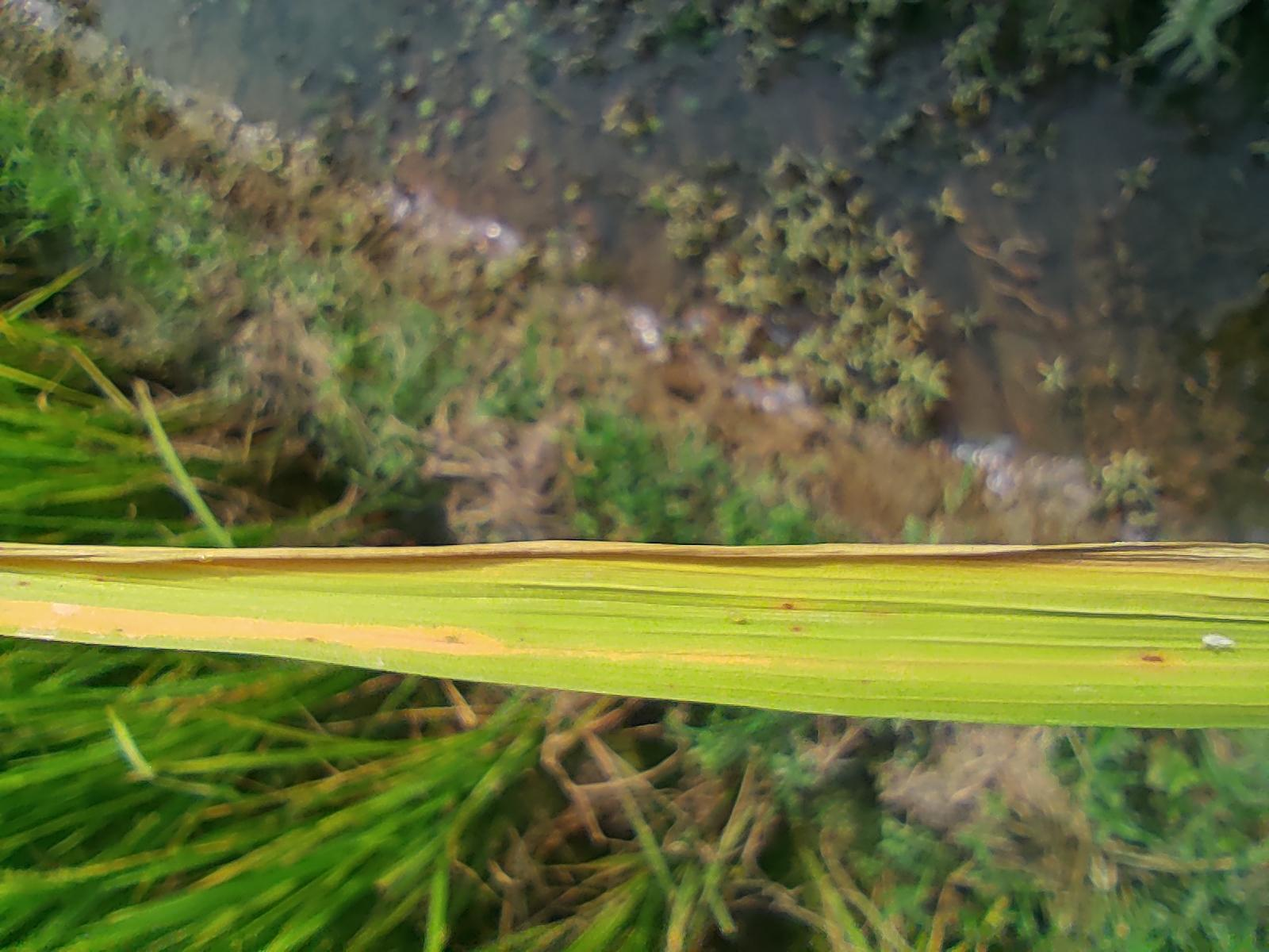BLB: (504, 0, 548, 951)
LEAF: (299, 0, 548, 951)
